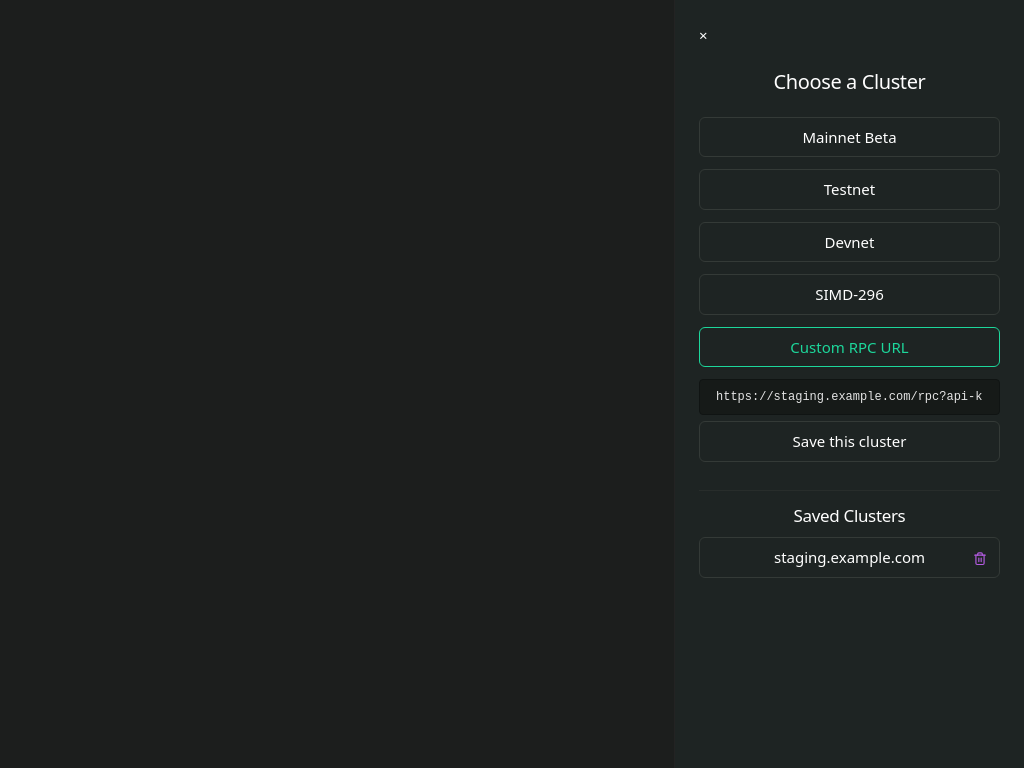
ClusterModal › should number the suggested name when the host is already saved
Click the button with test id "save-custom-cluster-btn".
click(850, 441)  # box 699,421 -> 1000,462
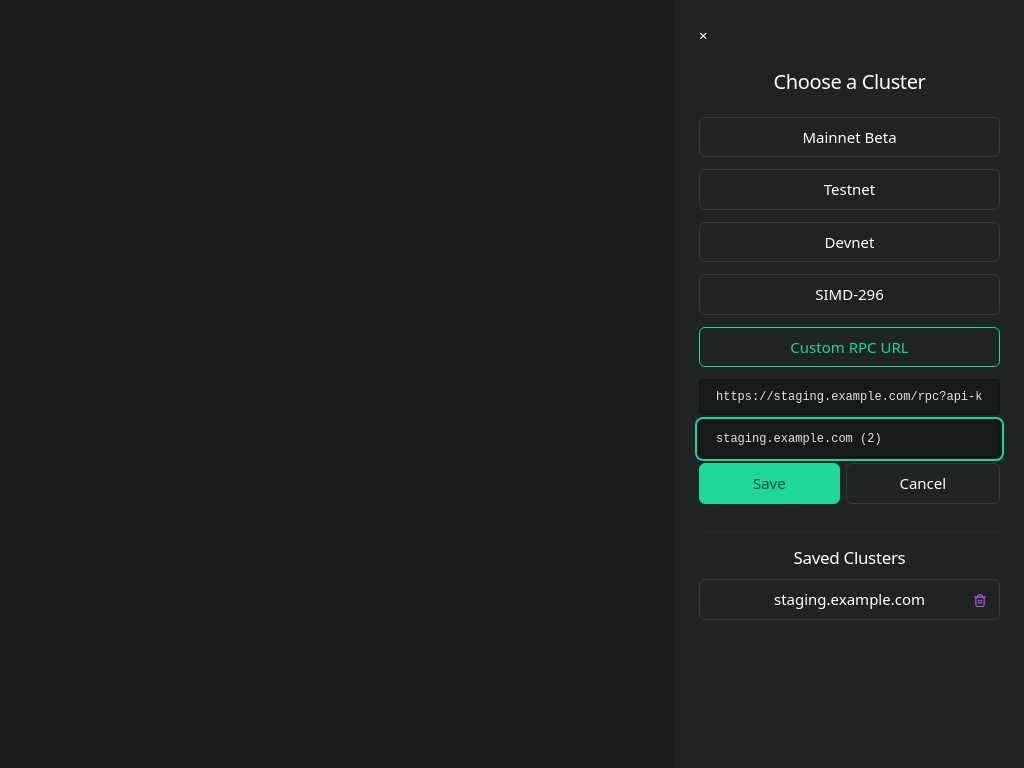
Now the field with test id "cluster-name-input" holds "staging.example.com (2)", box 699,421 -> 1000,457
